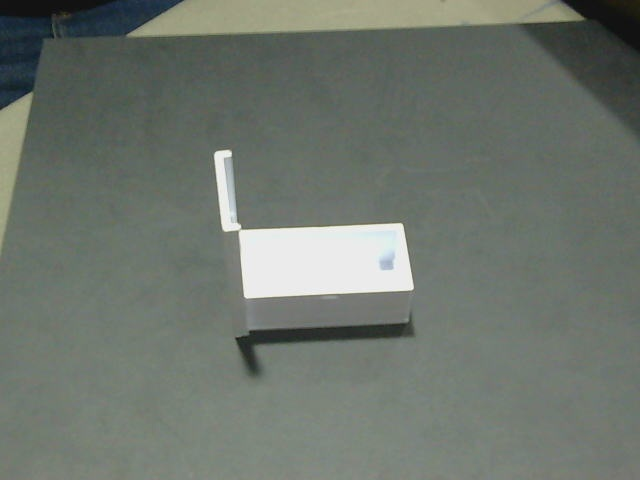enclosure_defective: (214, 150, 414, 298)
